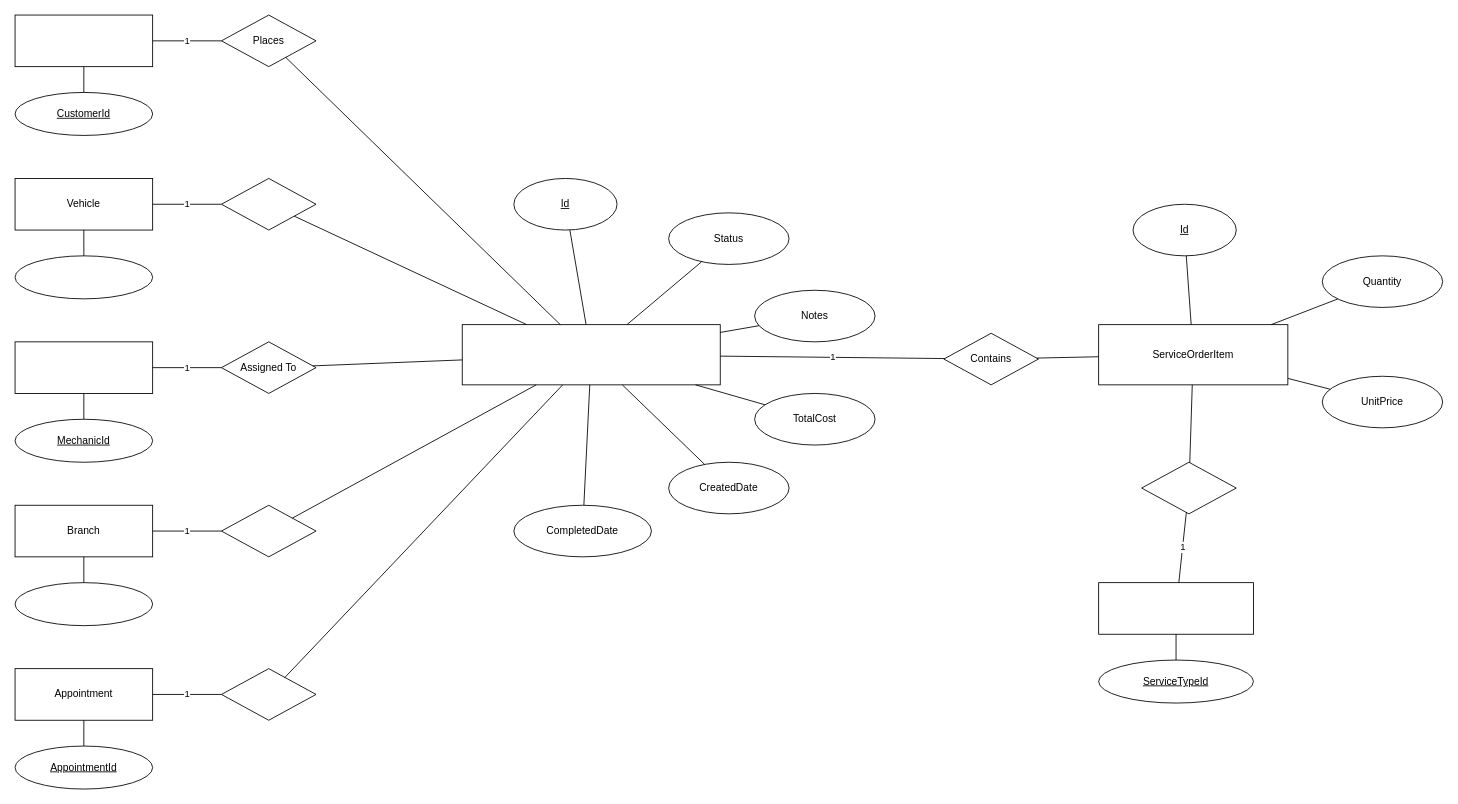
Image size: 1458x804. Some labels were removed from this diagram. The centre of each missing label's shape, as x and y in pixels:
"BranchId" belongs at pixel 83 604.
"Converts To" belongs at pixel 268 694.
"Customer" belongs at pixel 83 40.
"Handles" belongs at pixel 268 530.
"Mechanic" belongs at pixel 83 367.
"Serviced In" belongs at pixel 268 204.
"ServiceOrder" belongs at pixel 590 354.
"ServiceType" belongs at pixel 1175 608.
"Uses" belongs at pixel 1188 487.
"VehicleId" belongs at pixel 83 277.
